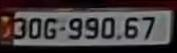-: (58, 27, 66, 32)
.: (116, 35, 122, 41)
0: (101, 16, 116, 41), (29, 17, 41, 39)
3: (14, 17, 27, 40)
6: (124, 17, 139, 39)
7: (142, 16, 156, 40)
9: (68, 18, 83, 41), (85, 16, 99, 40)
G: (44, 17, 57, 40)
